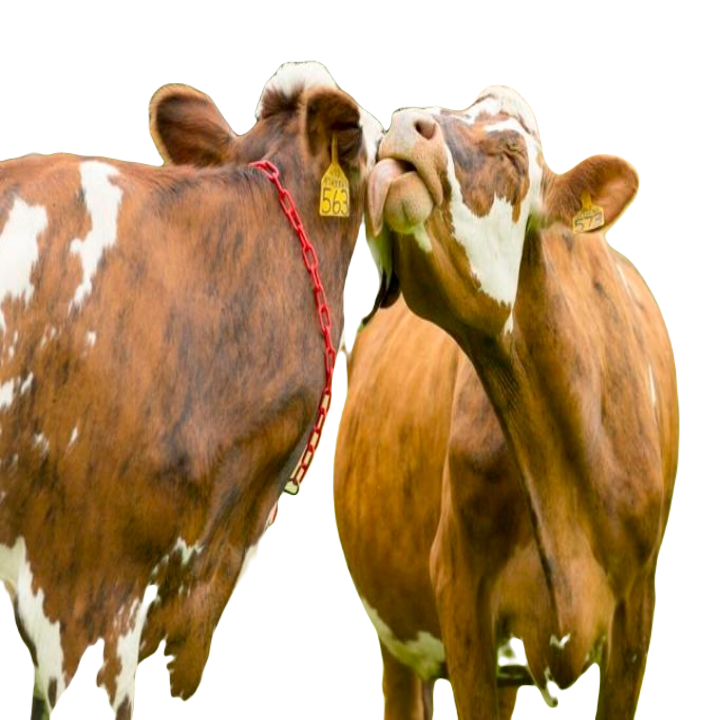Cow: (329, 83, 681, 719)
